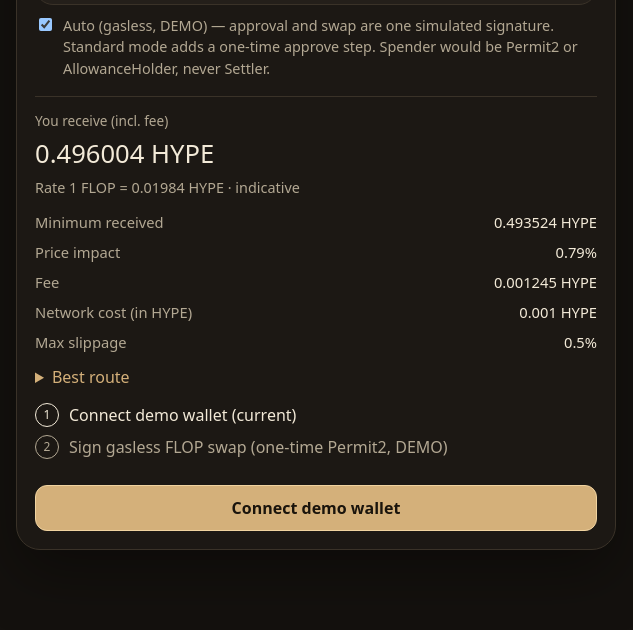
Test: SwapDemo › reviews a FLOP to HYPE quote and can expire it
The image size is (633, 630).
(page scrolled)
Click the button "Connect demo wallet" at (316, 508), box [35, 485, 597, 531]
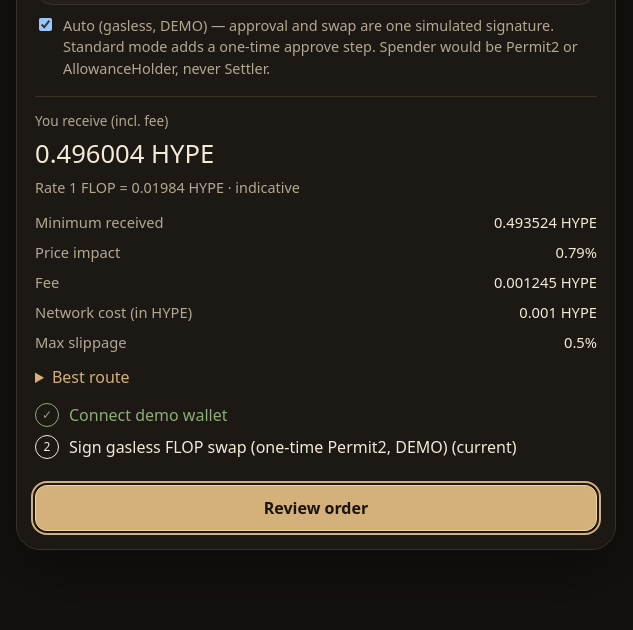
Click the button with test id "primary-action" at (316, 508), box [35, 485, 597, 531]
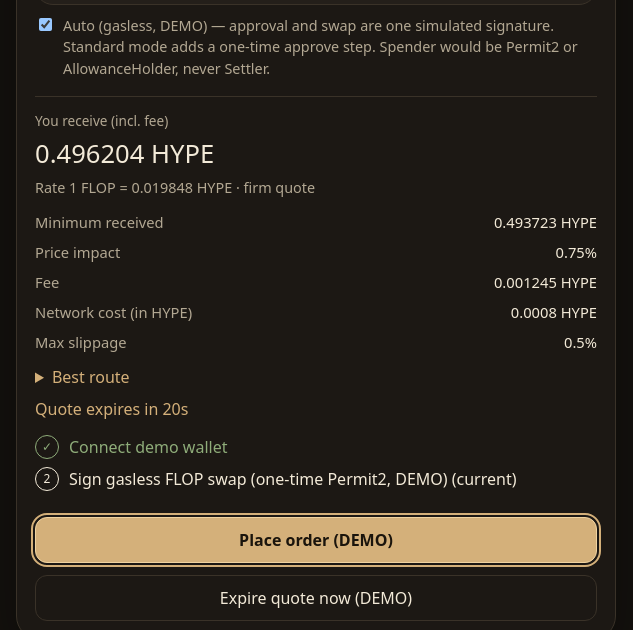
Expected: the element with test id "quote-card" is shown, [35, 96, 597, 389]
Expected: the text with test id "quote-timer" shows "Quote expires in", [35, 398, 188, 420]
Click the button with test id "expire-quote" at (316, 598), box [35, 575, 597, 621]
(page scrolled)
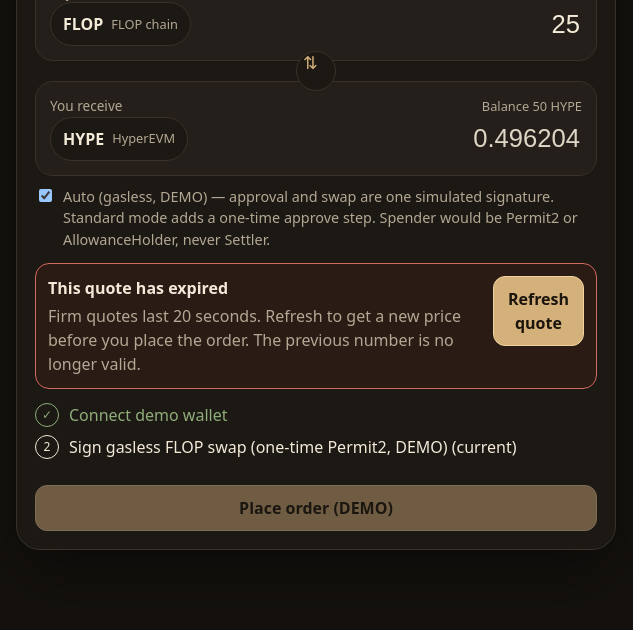
Expected: the message with test id "stale-banner" is shown, [35, 263, 597, 389]
Expected: the button with test id "primary-action" is disabled, [35, 485, 597, 531]
Click the button with test id "refresh-quote" at (538, 311), box [493, 276, 584, 346]
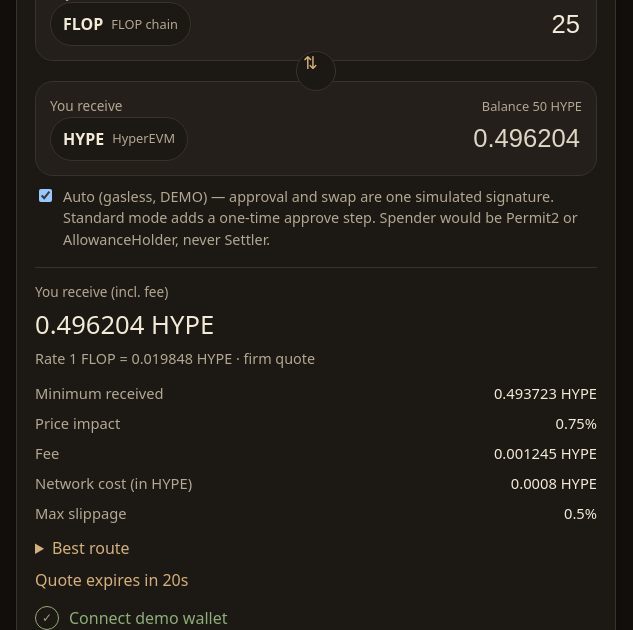
Expected: the text "Quote expires in 20s" is shown, [35, 569, 188, 591]
Expected: the message with test id "stale-banner" is gone
